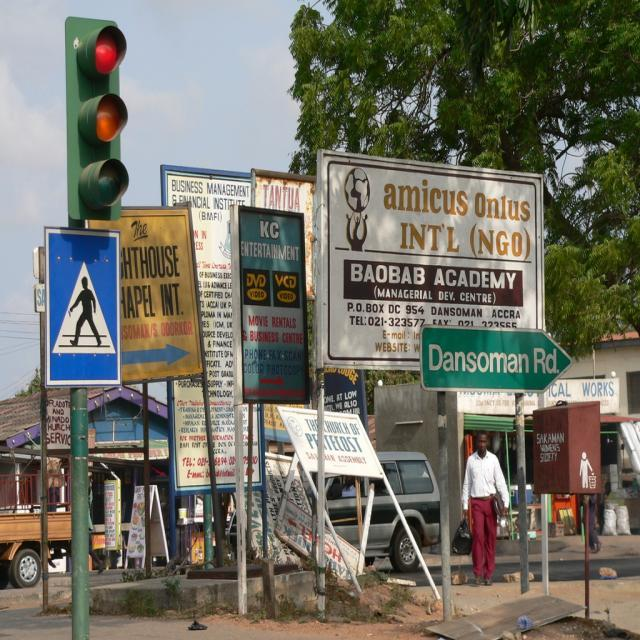road_sign: (44, 228, 125, 386)
traffic light: (64, 15, 129, 221)
